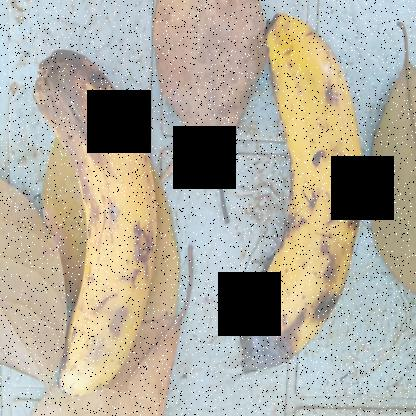overripe: (218, 0, 370, 396), (26, 29, 173, 415)
